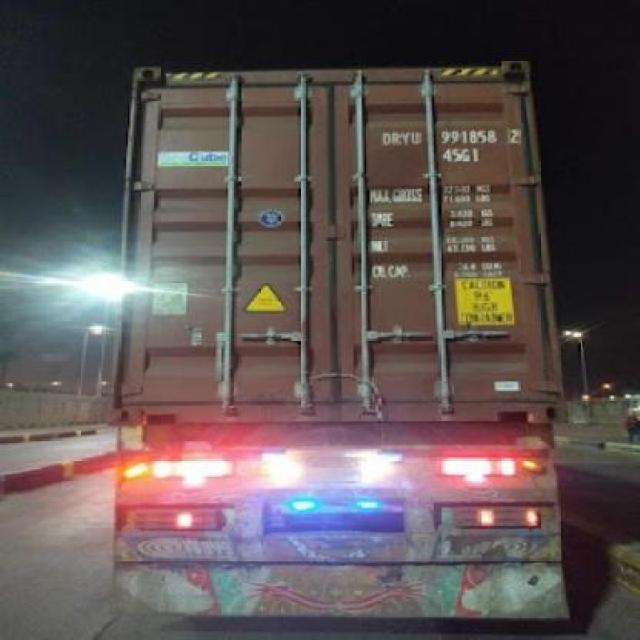ISO: (441, 146, 482, 164)
container_number: (384, 126, 522, 146)
